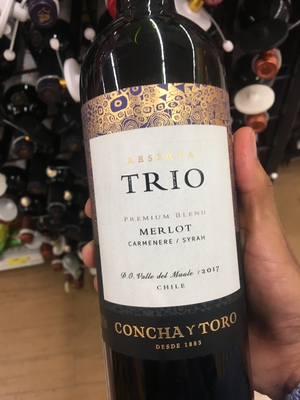trio merlot: (74, 13, 265, 399)
